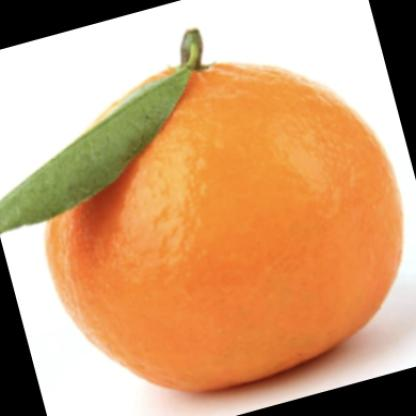fresh: (43, 38, 402, 394)
